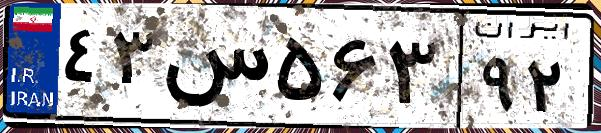2: (525, 38, 570, 115)
3: (385, 28, 445, 110), (110, 28, 158, 98)
4: (57, 26, 110, 100)
5: (270, 28, 330, 110)
6: (330, 28, 385, 110)
9: (475, 38, 525, 113)
س: (158, 20, 270, 120)
